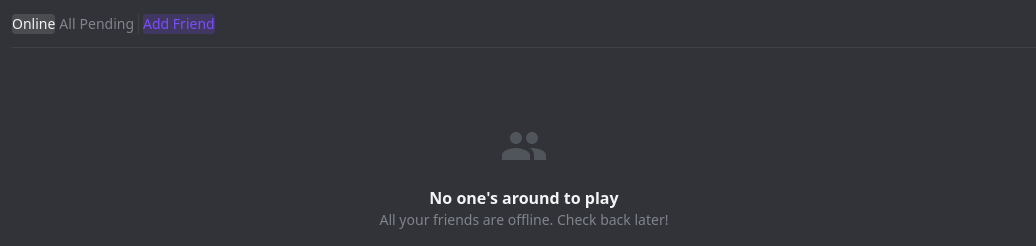
FriendsView — Pending tab › shows empty state when no pending requests
Click the button "Pending".
click(107, 24)  # box [80,14,134,34]
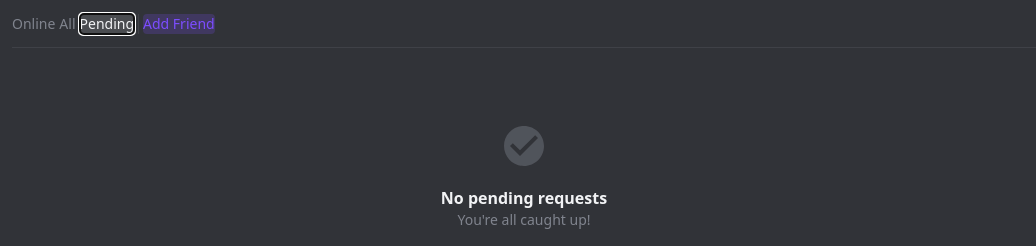
Check: the text "No pending requests" is shown, box [441,186,607,210]
